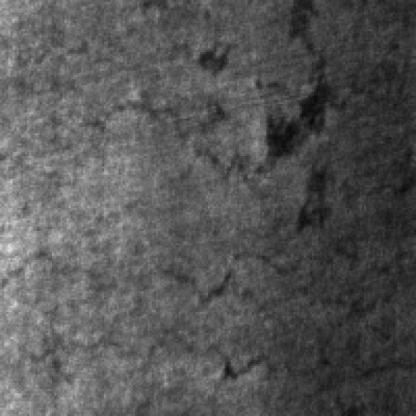crazing: (4, 246, 285, 376), (27, 89, 254, 219)
patches: (256, 69, 341, 231)
